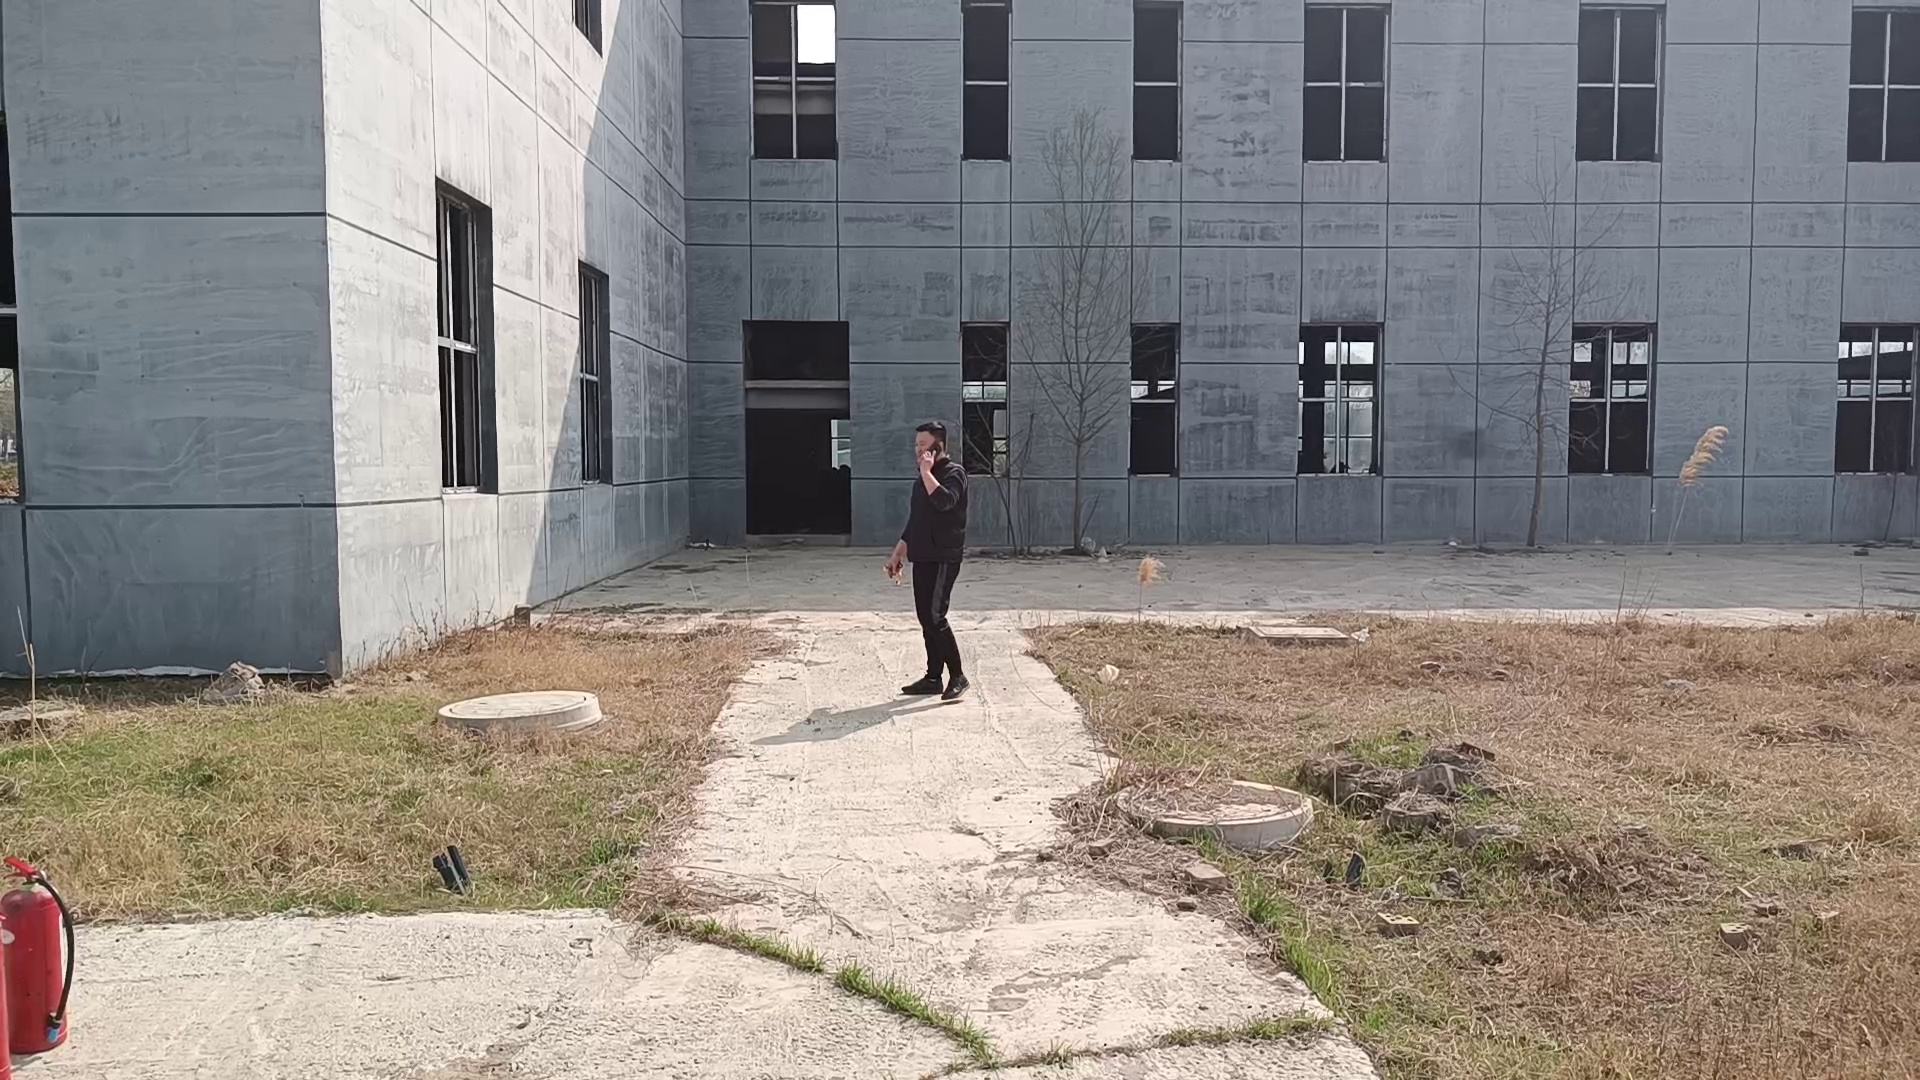phone: (909, 417, 956, 468)
